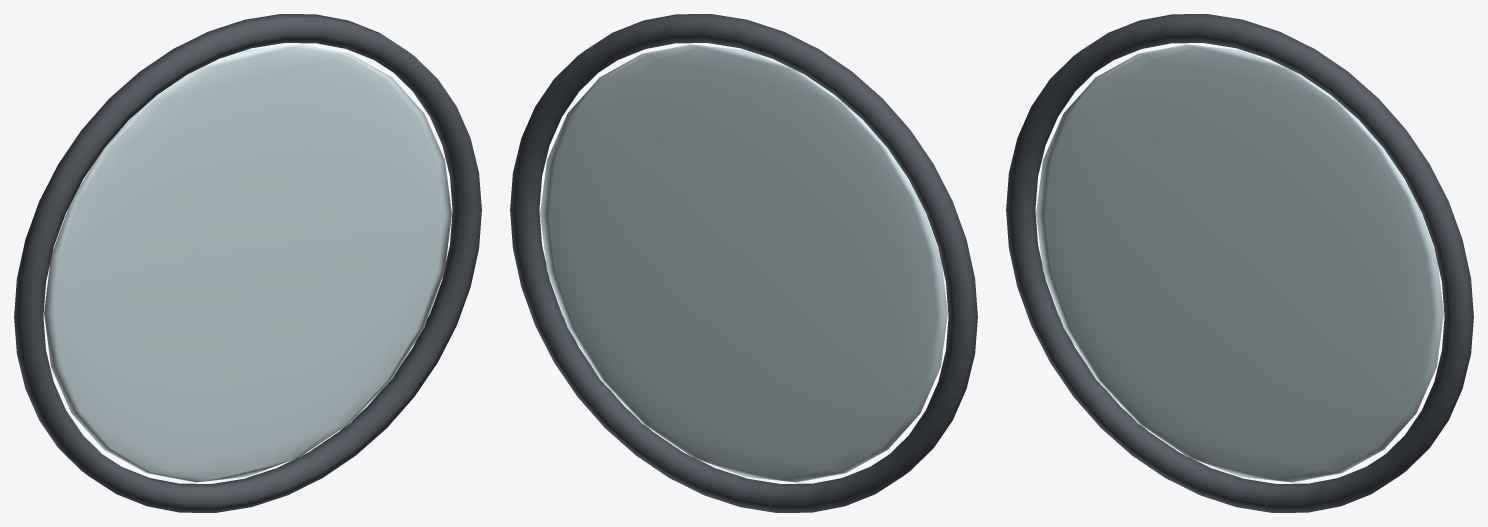
The model's file is atelier-round-mirror.glb.
3 views of the same model, side by side, from view 1: azimuth 30°, elevation 25°; view 2: azimuth 150°, elevation 25°; view 3: azimuth 330°, elevation 25° (orthographic).
Parts seen in each view (by area): view 1: glass.006, metal.064; view 2: glass.006, metal.064; view 3: glass.006, metal.064.
Boxes of the visible parts, left/top/right/bottom form: glass.006: left=44, top=44, right=451, bottom=482; metal.064: left=14, top=14, right=481, bottom=512; glass.006: left=540, top=44, right=947, bottom=482; metal.064: left=510, top=14, right=977, bottom=512; glass.006: left=1036, top=44, right=1443, bottom=482; metal.064: left=1006, top=14, right=1473, bottom=512.
Size of the model in its own units: 0.9033 by 0.9033 by 0.05.
